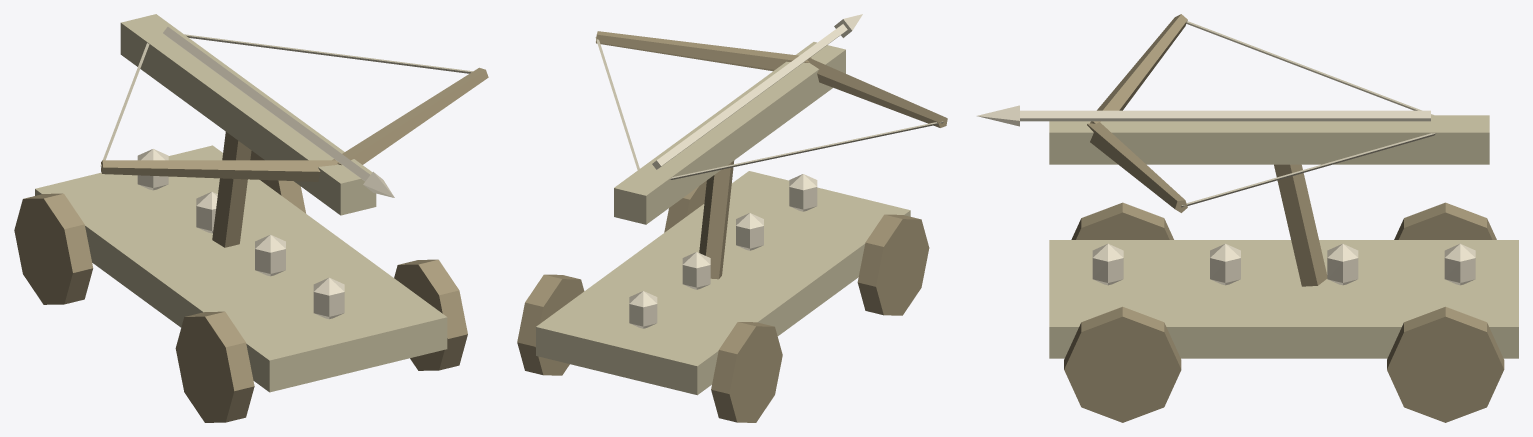
The model's file is knochenballiste.glb.
3 renders of one model, left to right at view 1: azimuth 30°, elevation 25°; view 2: azimuth 150°, elevation 25°; view 3: azimuth 270°, elevation 25°, orthographic. The views are drawn at different scales.
Size of the model in its own units: 1.52 by 0.98 by 1.85.
1 material, 1 textured.
